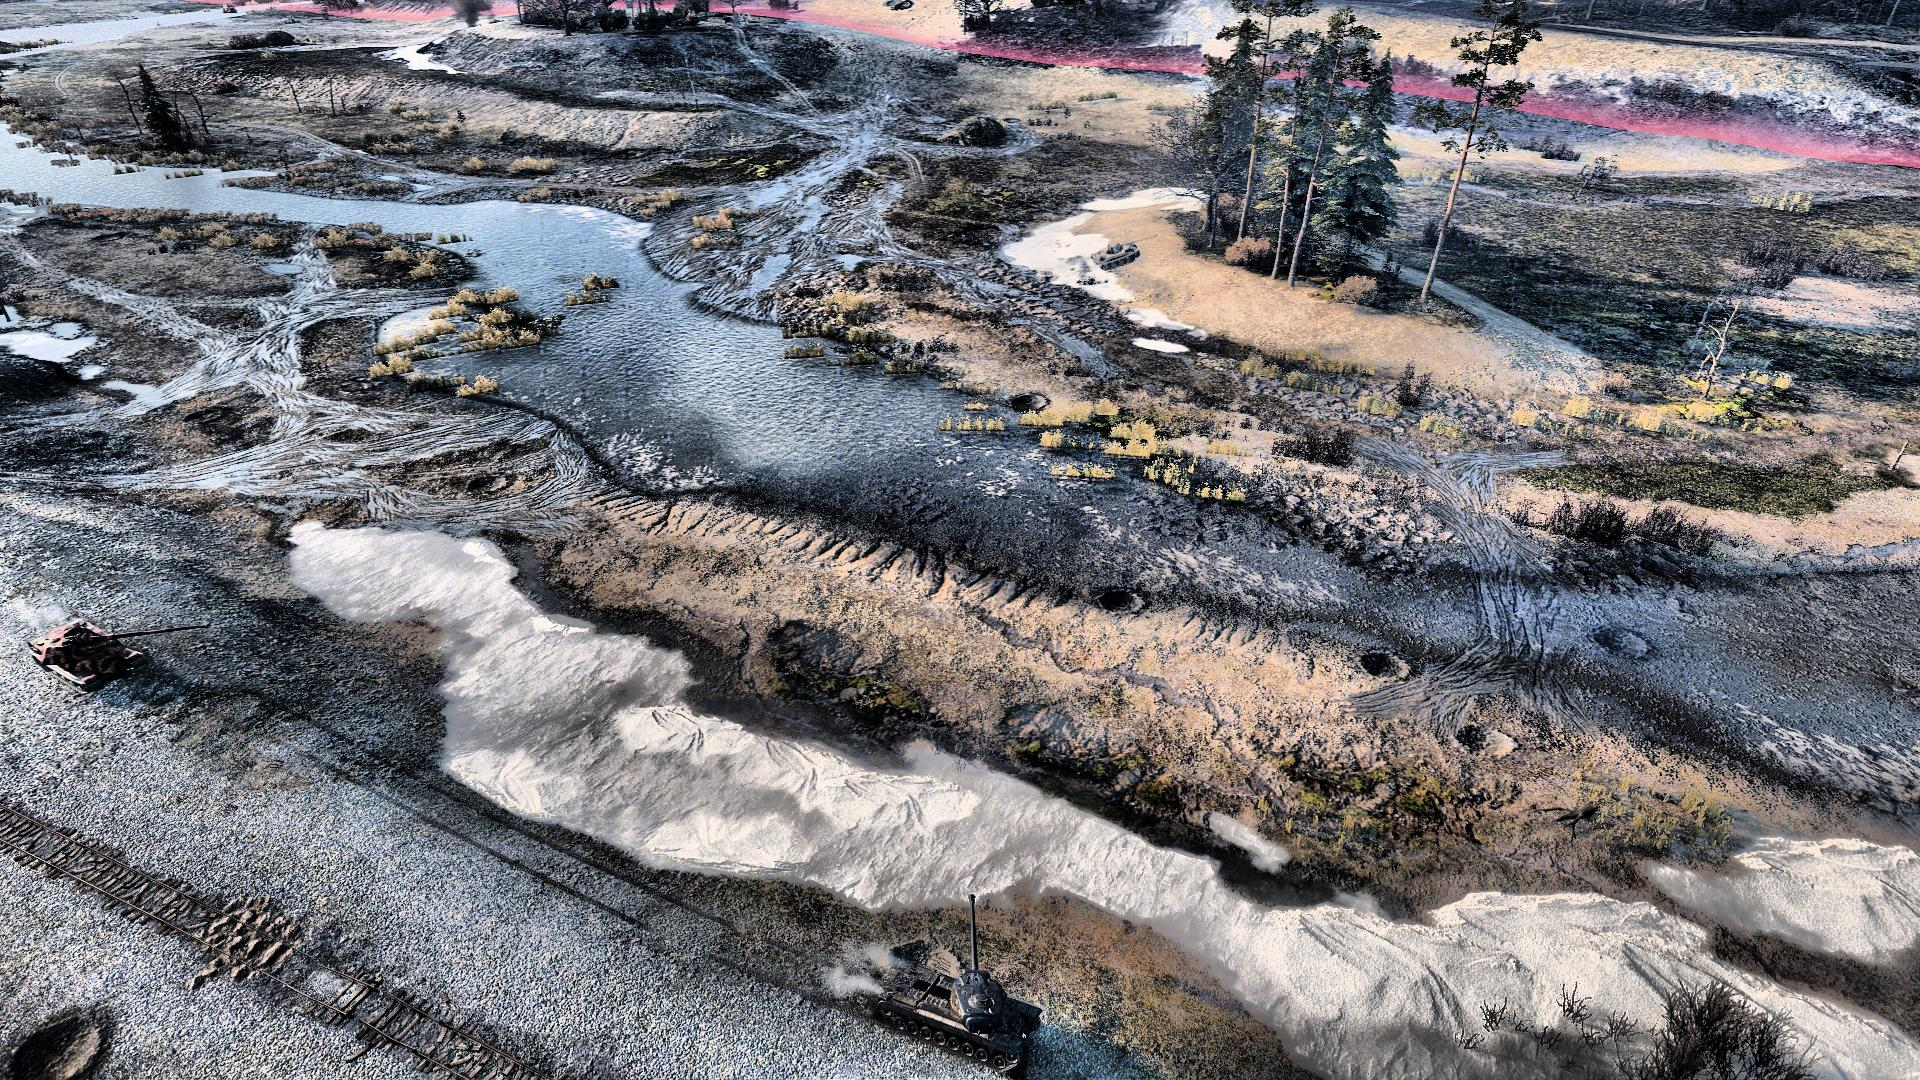military-vehicle: (876, 893, 1040, 1073), (25, 615, 208, 687), (1092, 233, 1156, 272)
